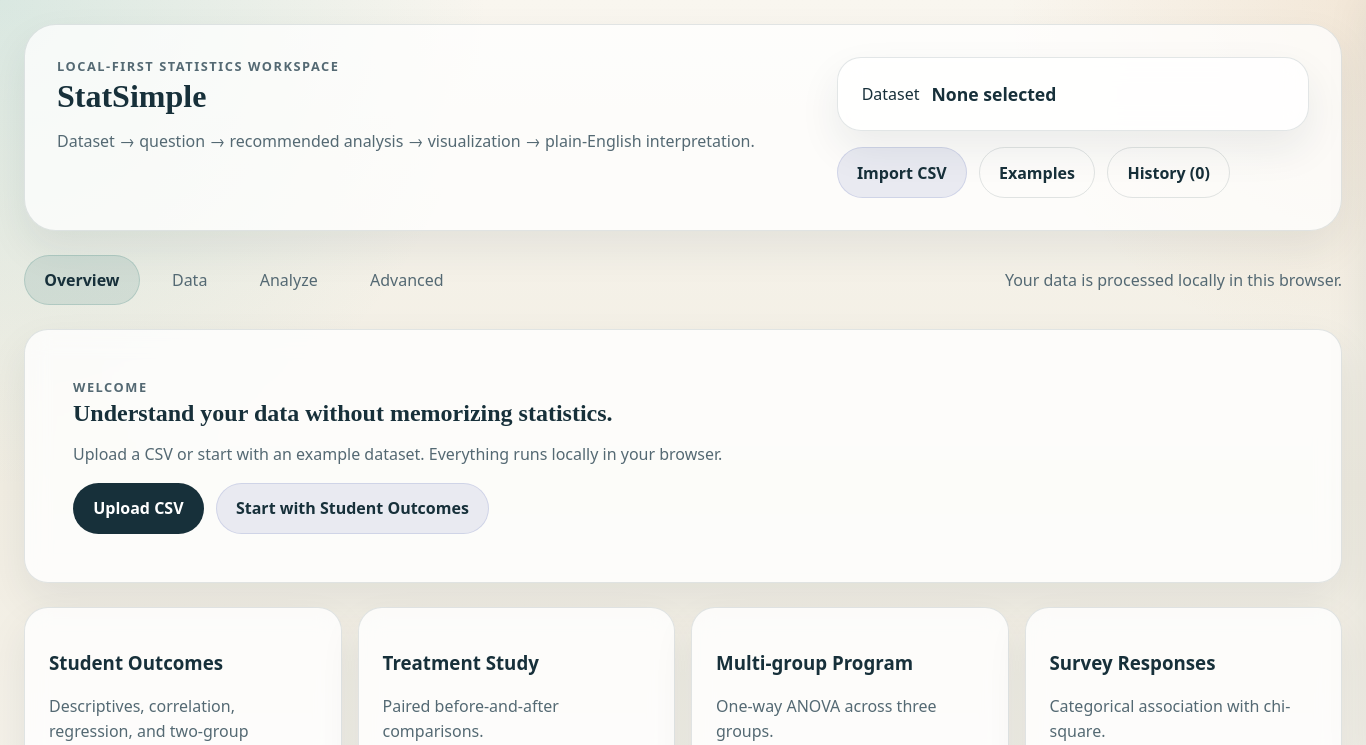
Test: StatSimple app flow › loads a sample dataset and shows overview summary
The image size is (1366, 745).
Click the button "Start with Student Outcomes" at [352, 508], box [216,483,489,534]
(page scrolled)
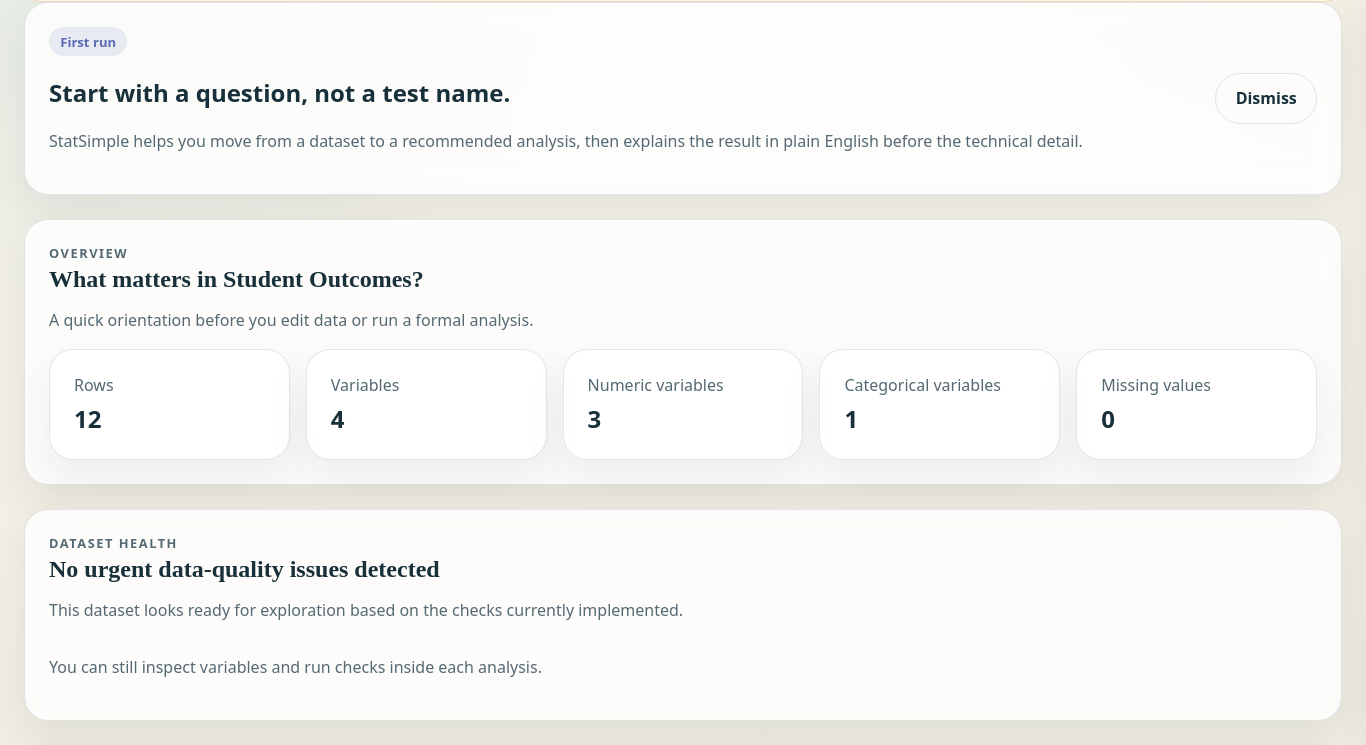
Expected: the text "Rows" is shown, [74,374,114,396]
Expected: the heading "What matters in Student Outcomes?" is shown, [49,266,424,292]
Expected: the text "Variables" is shown, [331,374,399,396]
